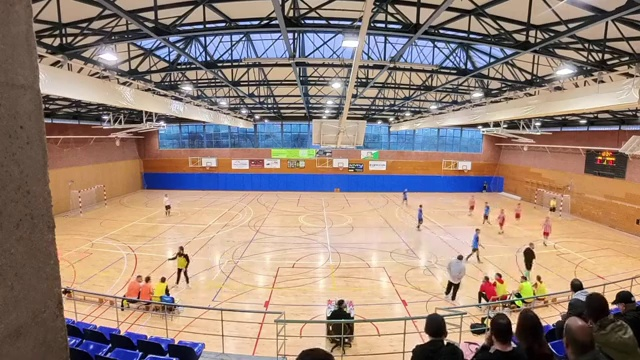players blue shirt: (466, 229, 479, 261), (417, 204, 423, 229), (483, 202, 488, 223), (402, 190, 406, 204)
players red shirt: (542, 216, 551, 245), (497, 209, 505, 233), (469, 195, 475, 215), (514, 205, 521, 219)
